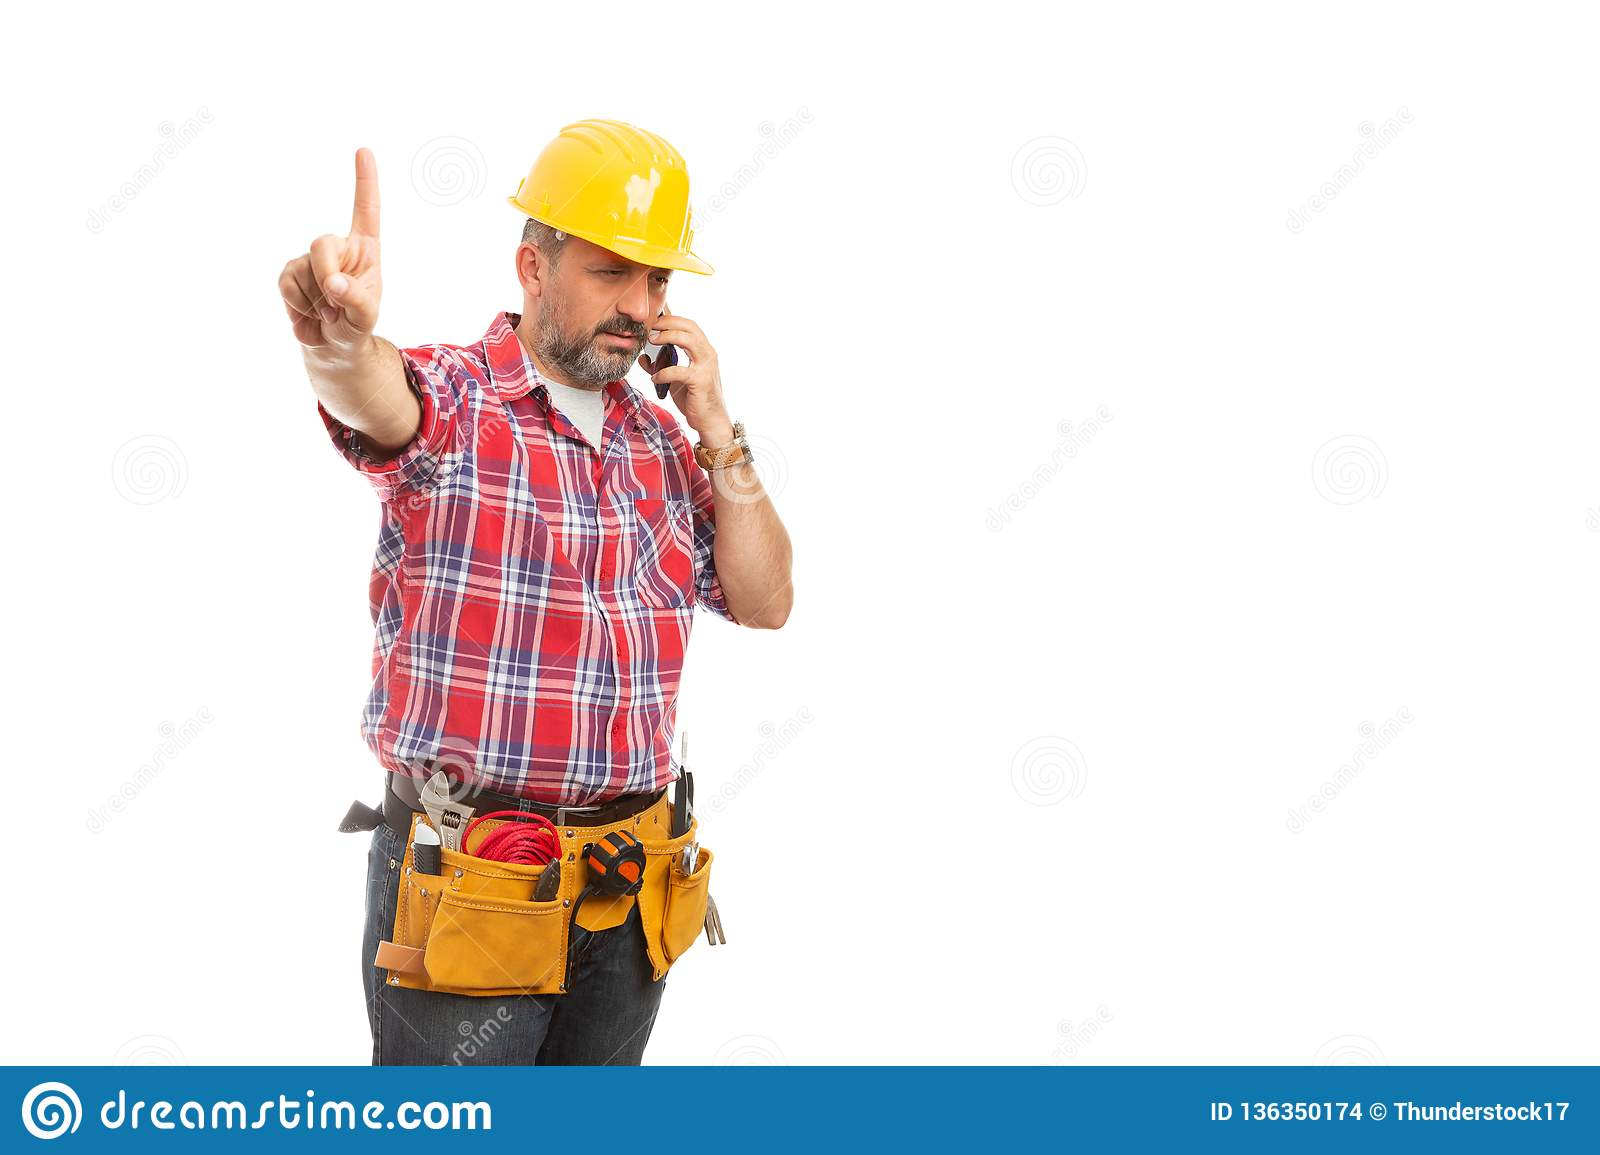phone: (641, 304, 681, 400)
talk: (569, 263, 729, 438)
